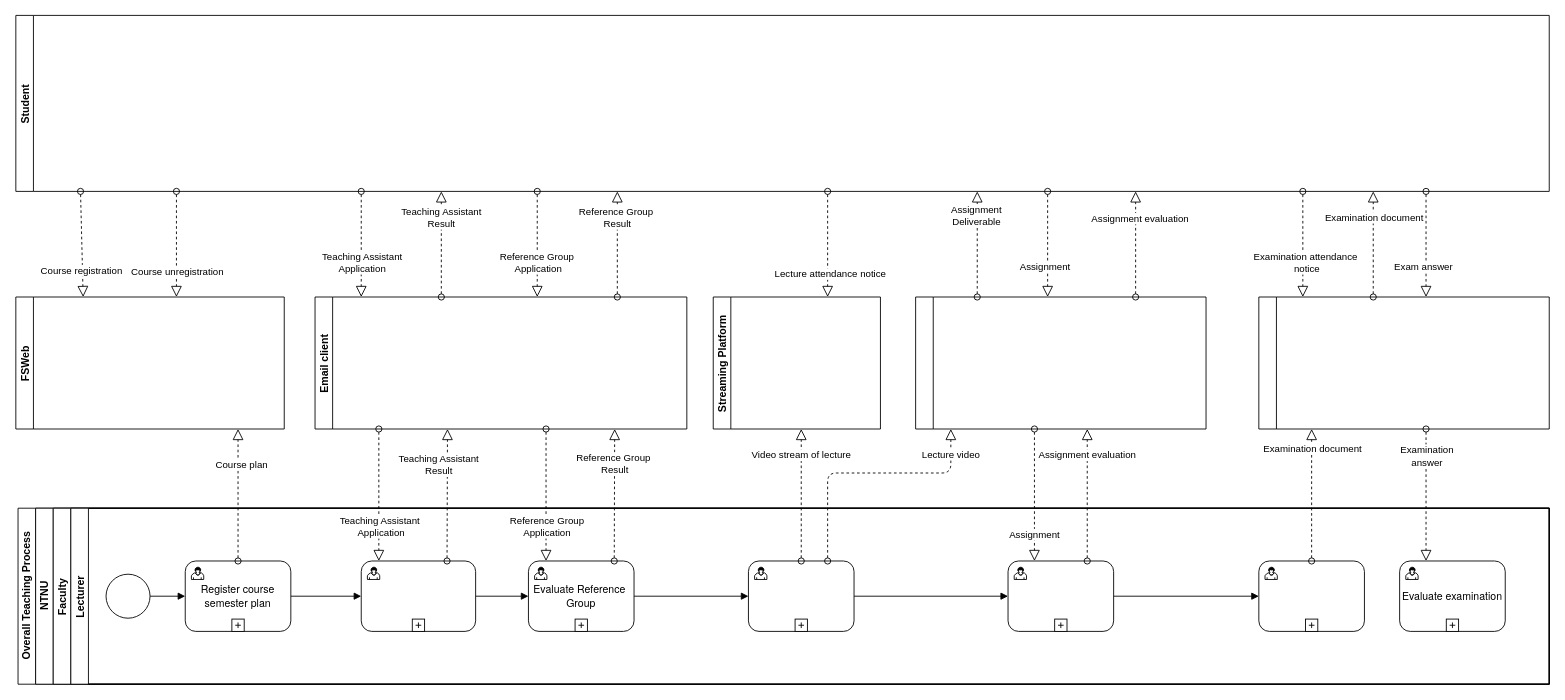
This 1565x700 diagram has some shape labels left out. The centre of each missing label's shape, as x and y in pixels:
"Blackboard" belongs at [1060,362].
"Evaluate Course assignment" belongs at [1060,595].
"Evaluate teaching assistant applications" belongs at [418,595].
"Inspera" belongs at [1403,362].
"Perform lecture" belongs at [801,595].
"Upload exam" belongs at [1311,595].
